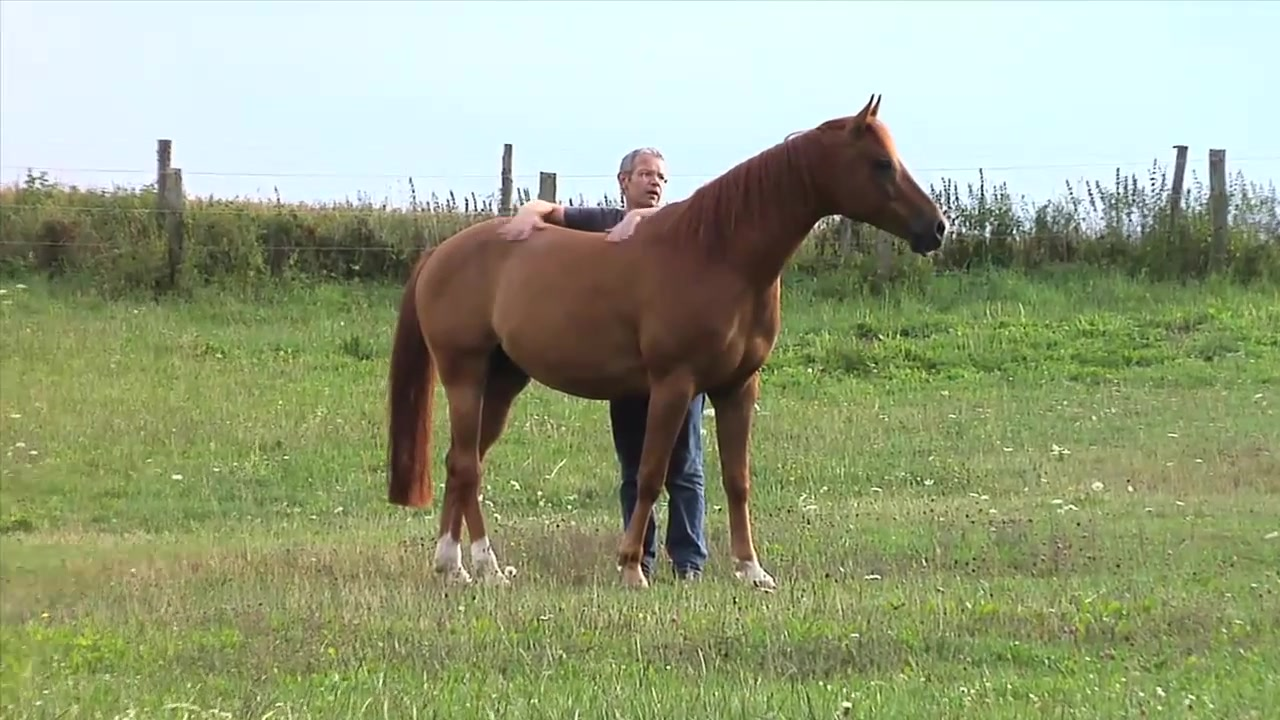horse: (384, 94, 952, 595)
